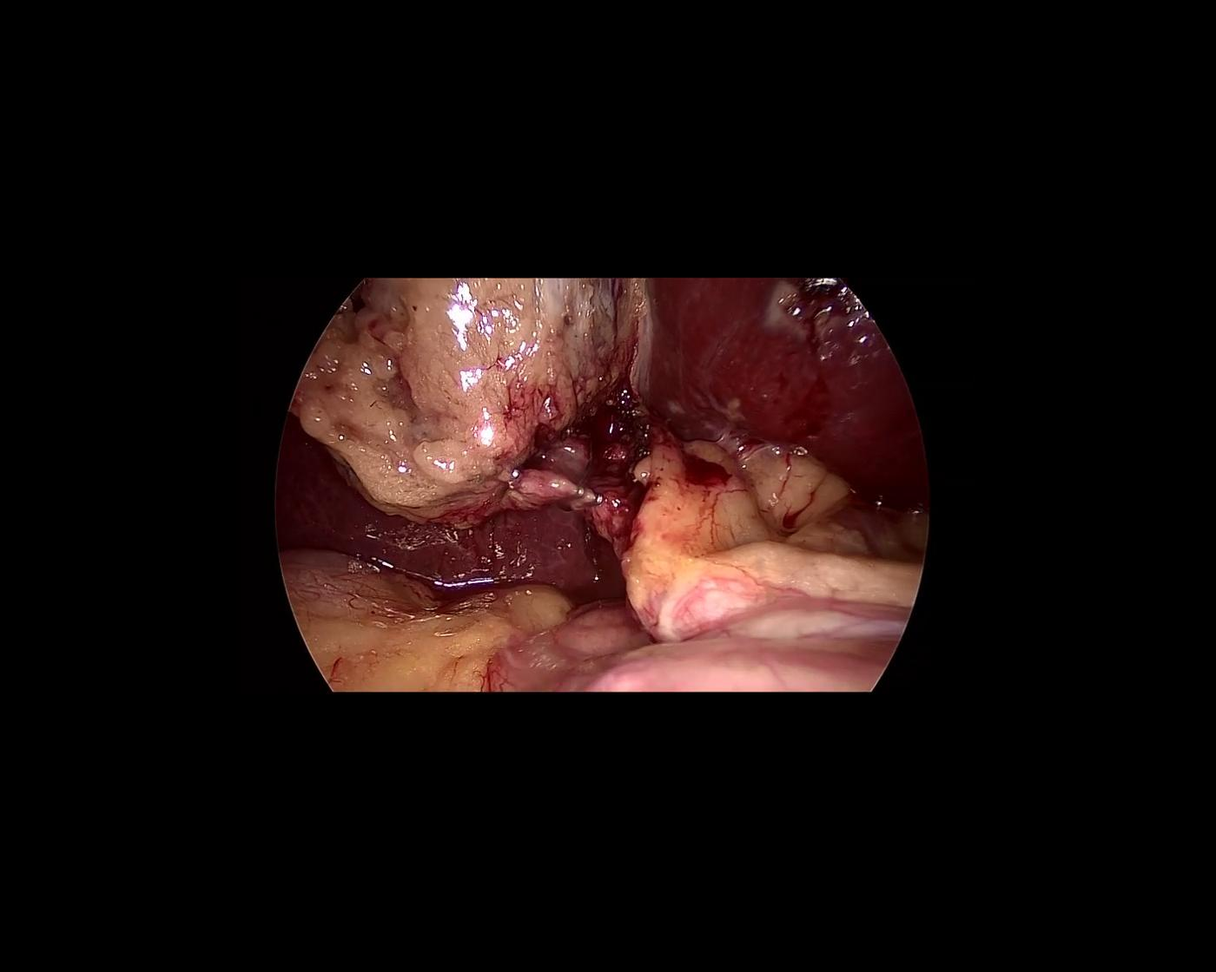Gallbladder: (286, 277, 631, 527)
Liver: (247, 414, 614, 644), (624, 278, 931, 505)
